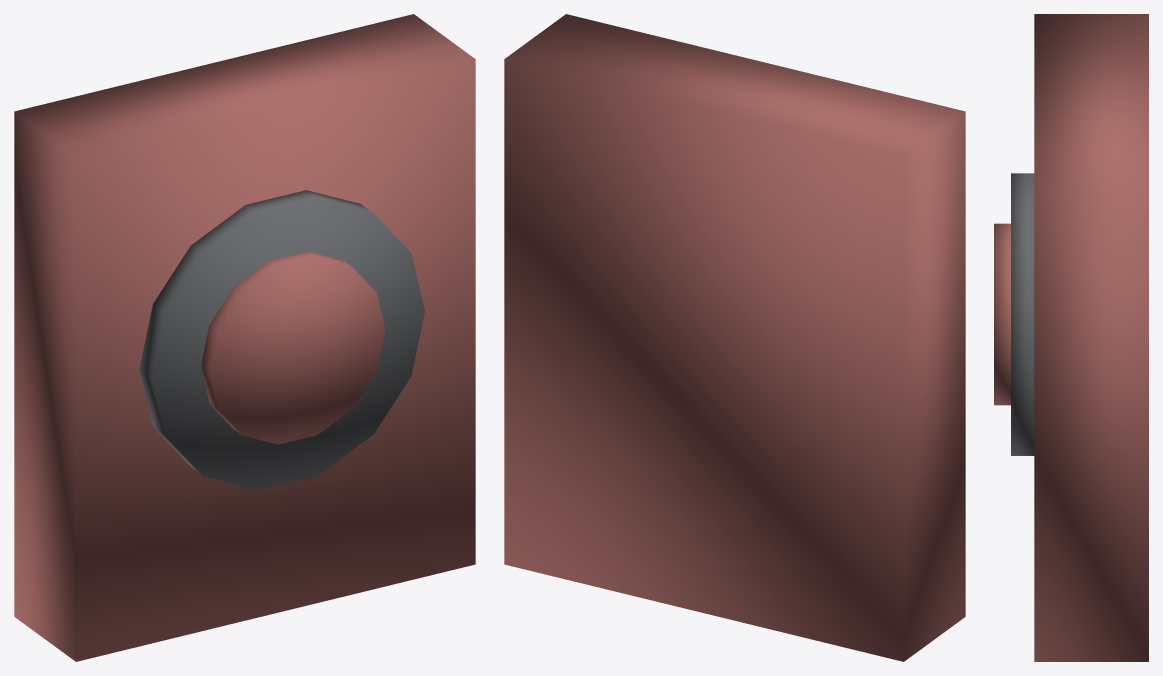
File: fire_hose_rack__reinforced.glb
The picture shows the model from 3 angles, left to right: view 1: azimuth 30°, elevation 25°; view 2: azimuth 150°, elevation 25°; view 3: azimuth 270°, elevation 25°; orthographic projection. The views are drawn at different scales.
Parts seen in each view (by area): view 1: world; view 2: world; view 3: world.
Boxes of the visible parts, bbox=[...] form: world: bbox=[14, 14, 475, 661]; world: bbox=[504, 14, 965, 661]; world: bbox=[994, 14, 1148, 661].
Bounding box in the file's own units: 0.8446 × 1.02 × 0.3064.
